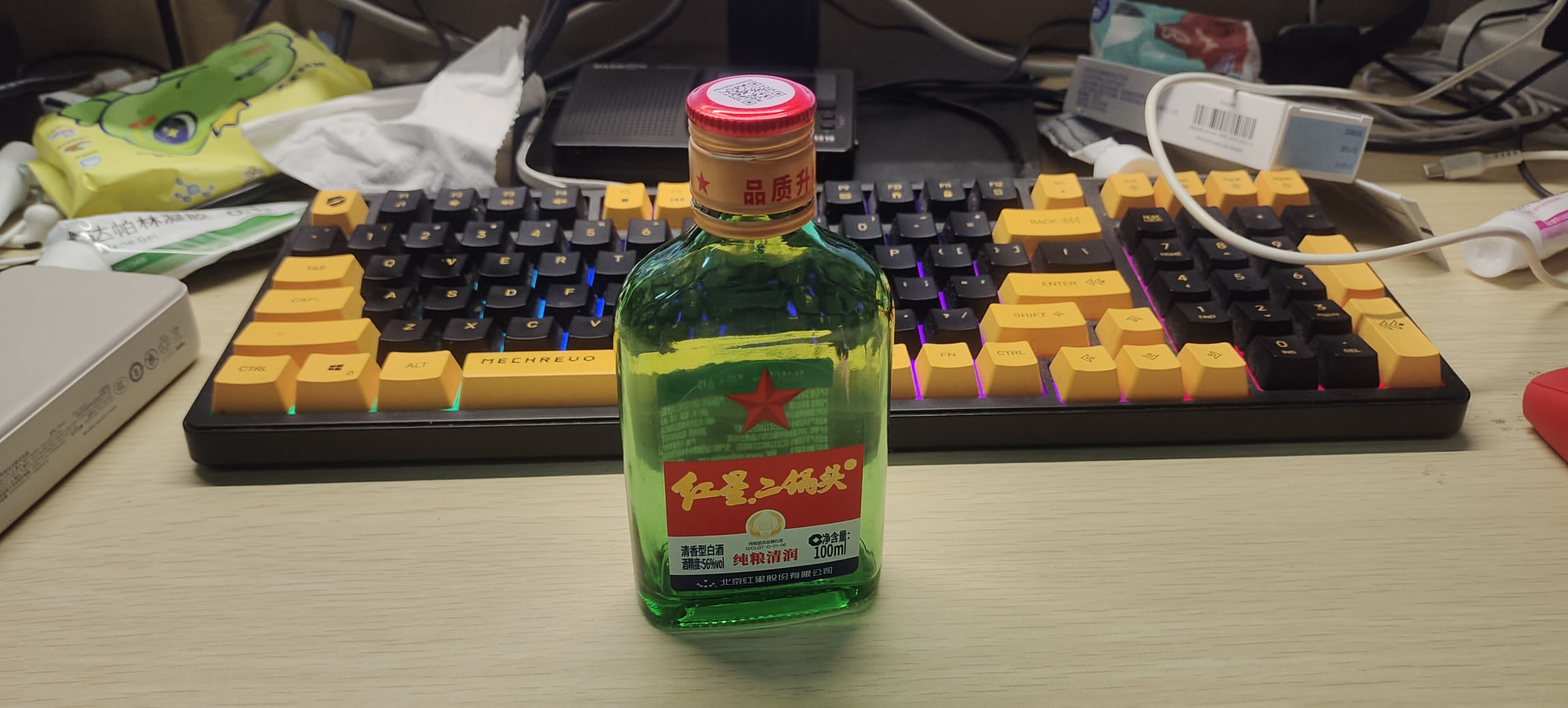redbull: (583, 85, 936, 643)
